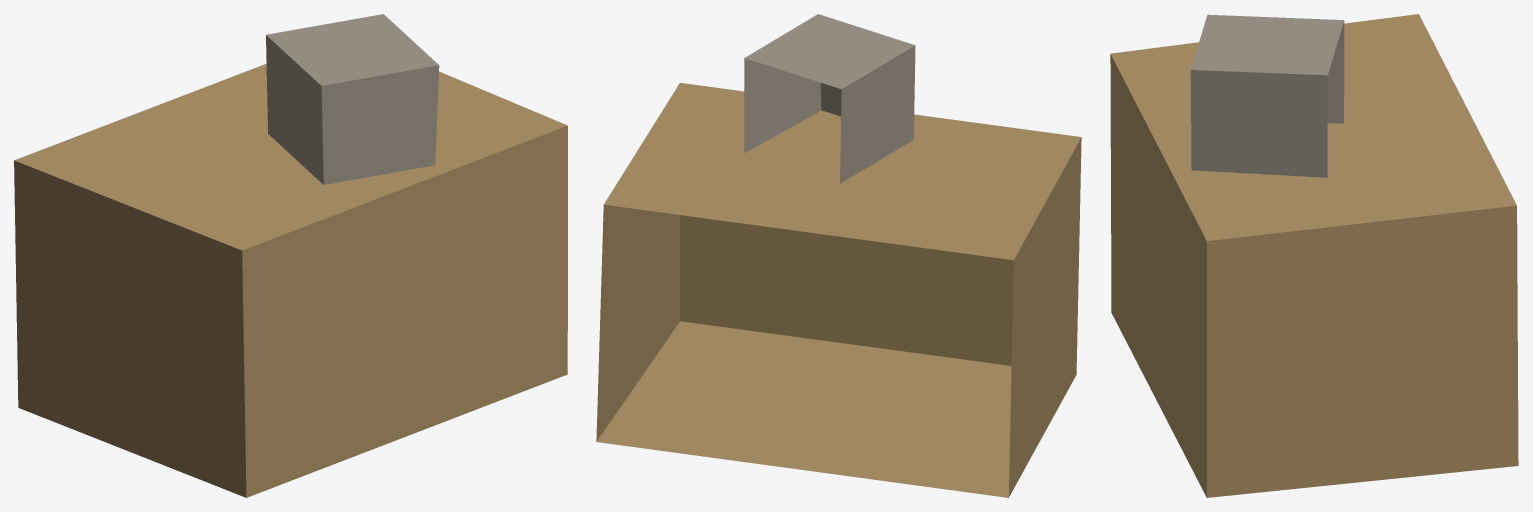
Rendered from MSH_QuestObject_cabinet_04.fbx.
3 renders of one model, left to right at view 1: azimuth 30°, elevation 25°; view 2: azimuth 150°, elevation 25°; view 3: azimuth 270°, elevation 25°, orthographic. The views are drawn at different scales.
Visible parts, largest first — view 1: MSH_QuestObject_cabinet_04; view 2: MSH_QuestObject_cabinet_04; view 3: MSH_QuestObject_cabinet_04.
Boxes of the visible parts, <box> form: MSH_QuestObject_cabinet_04: <box>14,14,567,497</box>; MSH_QuestObject_cabinet_04: <box>596,14,1081,497</box>; MSH_QuestObject_cabinet_04: <box>1110,14,1518,497</box>.
Bounding box in the file's own units: 1.59 × 1.17 × 1.2.
